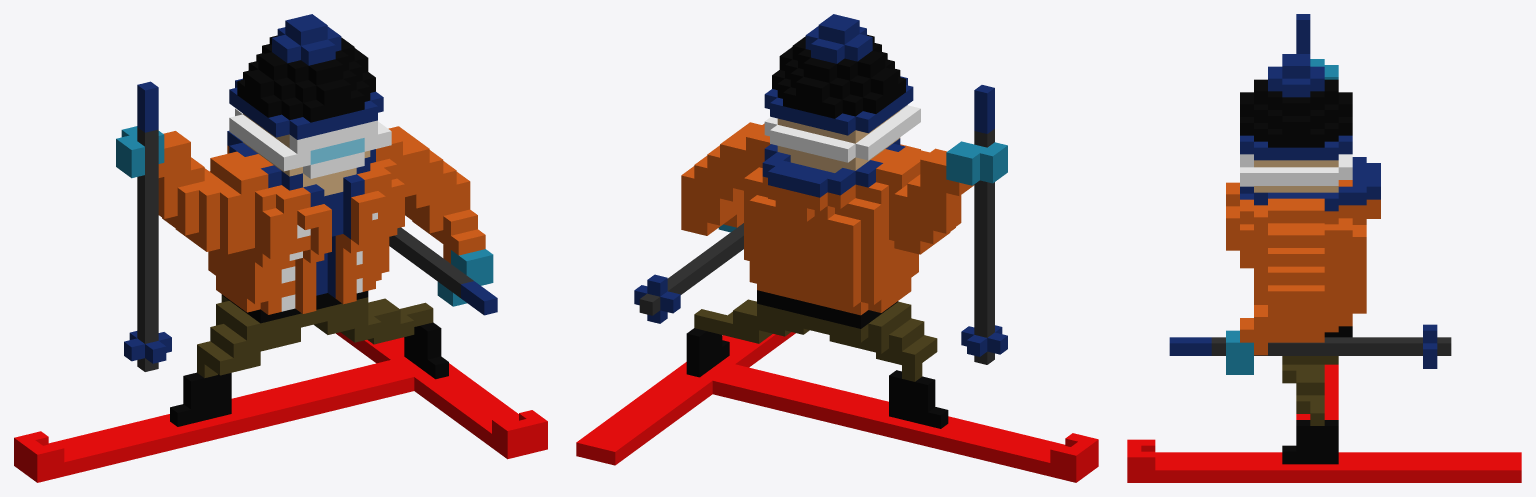
Rendered from Saut_9_Frame_01.obj.
The picture shows the model from 3 angles, left to right: view 1: azimuth 30°, elevation 25°; view 2: azimuth 150°, elevation 25°; view 3: azimuth 270°, elevation 25°; orthographic projection. The views are drawn at different scales.
Size of the model in its own units: 31 by 28 by 28.
Materials: 1 (1 with a texture image).
